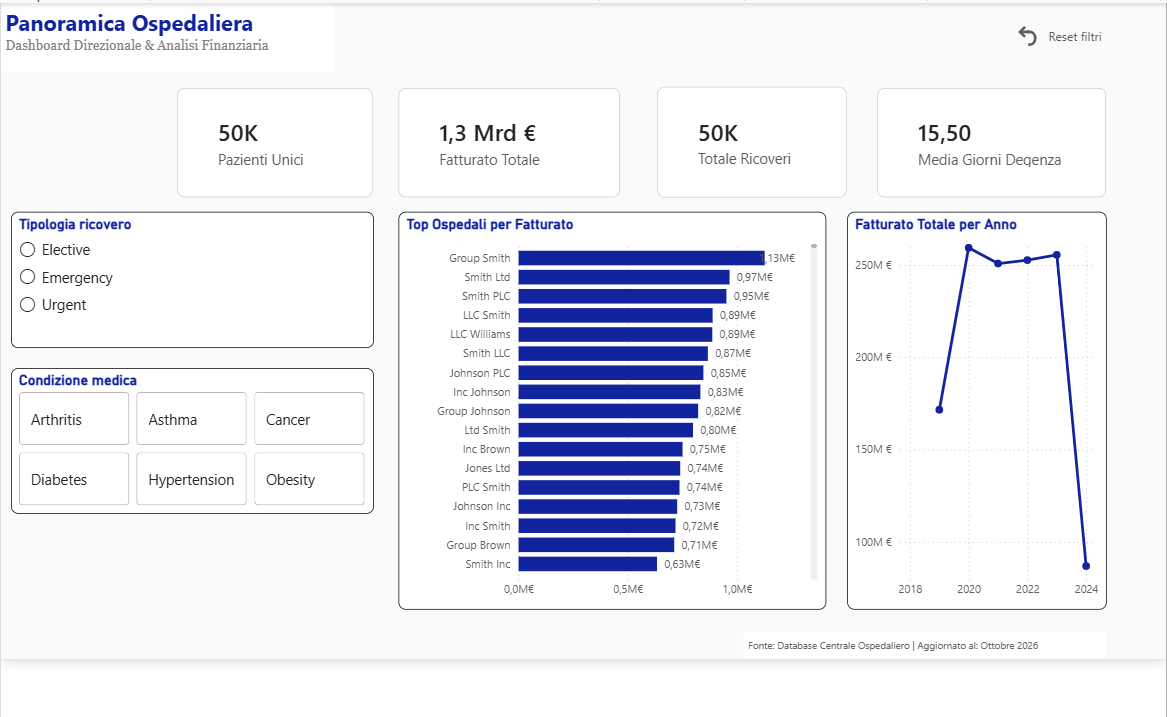

What the dashboard file says about the page in this screenshot:
{"tool":"powerbi","page":{"name":"Panoramica Ospedaliera","canvas":[1280,720],"ordinal":0},"visuals":[{"type":"cardVisual","fields":{"Data":["Misure.Fatturato_Mrd"]},"box":[437,93.1,243.1,120.2],"z":0},{"type":"cardVisual","fields":{"Data":["Misure.Pazienti Unici"]},"box":[193.9,93.1,214.6,120.2],"z":1000},{"type":"cardVisual","fields":{"Data":["Misure.Media Giorni Degenza"]},"box":[961.9,93.1,250.8,120.2],"z":2000},{"type":"cardVisual","fields":{"Data":["Misure.Totale Ricoveri"]},"box":[720.2,91.8,208.2,121.5],"z":3000},{"type":"lineChart","title":"Fatturato Totale per Anno","fields":{"Category":["DimDate.Gerarchia temporale.Anno"],"Y":["Misure.Fatturato Totale"]},"box":[928.3,228.8,284.4,437],"z":4000},{"type":"listSlicer","title":"Tipologia ricovero","fields":{"Values":["FactHospitalVisits_pulita.Admission_Type"]},"box":[10.3,228.8,398.2,150],"z":5000},{"type":"advancedSlicerVisual","title":"Condizione medica","fields":{"Values":["FactHospitalVisits_pulita.Medical_Condition"]},"box":[10.3,400.8,398.2,160.3],"z":6000},{"type":"clusteredBarChart","title":"Top Ospedali per Fatturato","fields":{"Category":["DimHospitals_pulita.Hospital"],"Y":["Misure.Fatturato Totale"]},"box":[437,228.8,469.3,437],"z":7000},{"type":"actionButton","box":[1111.9,20.7,100.8,31],"z":8000},{"type":"textbox","box":[0,0,365,75],"z":9000},{"type":"textbox","box":[814.5,690.4,398.2,29.7],"z":10000}]}

Visuals, with their boxes on the page's 1280x720 design canvas (x1, y1, x2, y2). These are canvas units, not pixel positions in the 1167x717 screenshot, which may show the page scaled, cropped or inside an application window:
cardVisual - Misure.Fatturato_Mrd: x1=437, y1=93, x2=680, y2=213
cardVisual - Misure.Pazienti Unici: x1=194, y1=93, x2=408, y2=213
cardVisual - Misure.Media Giorni Degenza: x1=962, y1=93, x2=1213, y2=213
cardVisual - Misure.Totale Ricoveri: x1=720, y1=92, x2=928, y2=213
"Fatturato Totale per Anno" lineChart: x1=928, y1=229, x2=1213, y2=666
"Tipologia ricovero" listSlicer: x1=10, y1=229, x2=408, y2=379
"Condizione medica" advancedSlicerVisual: x1=10, y1=401, x2=408, y2=561
"Top Ospedali per Fatturato" clusteredBarChart: x1=437, y1=229, x2=906, y2=666
actionButton: x1=1112, y1=21, x2=1213, y2=52
textbox: x1=0, y1=0, x2=365, y2=75
textbox: x1=814, y1=690, x2=1213, y2=720
